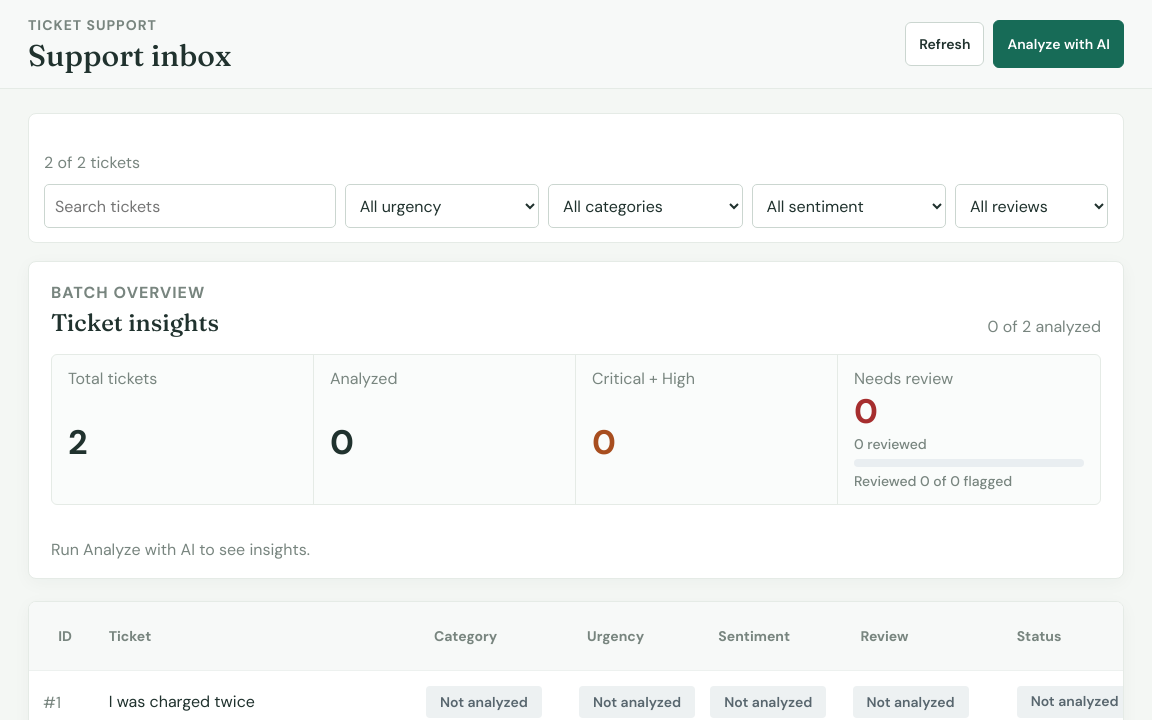
Scenario: App › warns when some tickets were not analyzed
Check: the text "I was charged twice" is shown, box [109, 691, 255, 712]
Click the button "Analyze with AI" at (1059, 44), box [993, 20, 1124, 68]
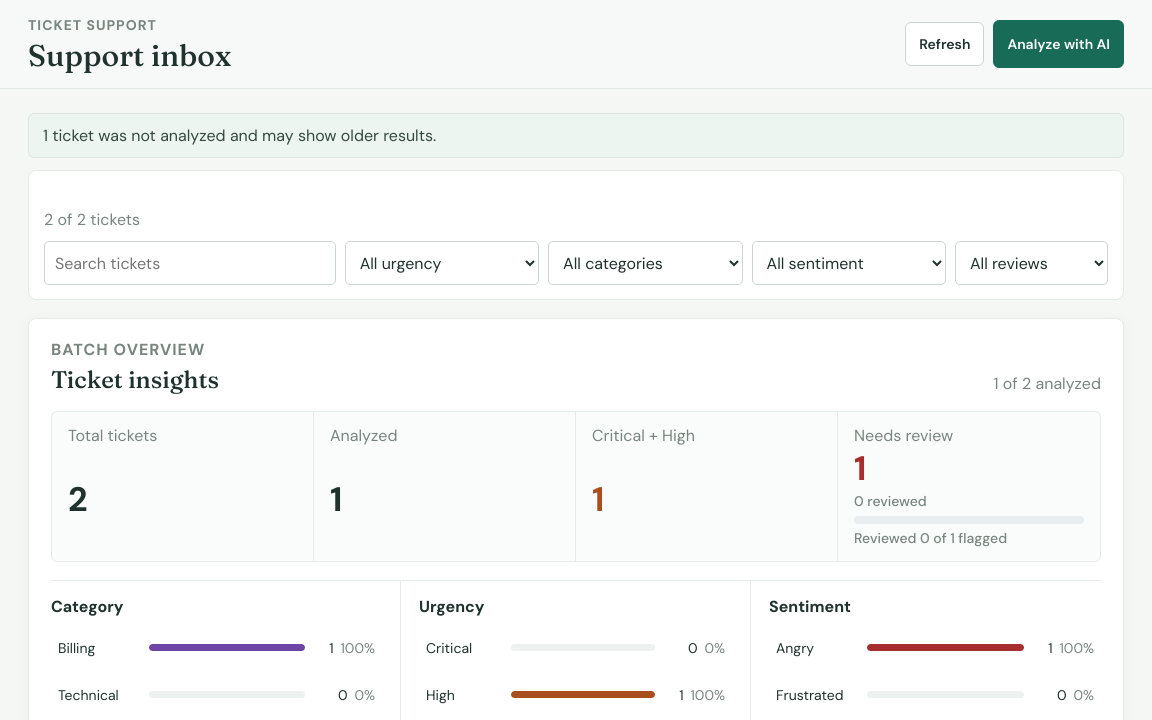
Check: the message shows "1 ticket was not analyzed", box [43, 125, 436, 146]
